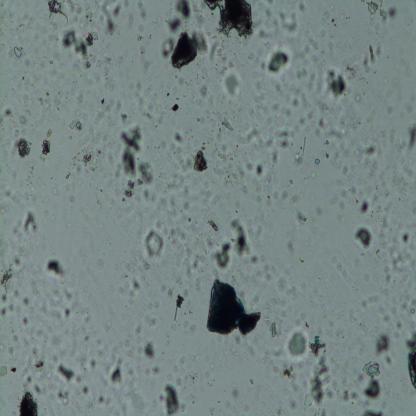Background material: (164, 0, 256, 81), (113, 121, 157, 199), (303, 333, 329, 411), (210, 150, 261, 186), (57, 29, 99, 70), (300, 72, 330, 112), (245, 123, 277, 160), (261, 294, 286, 340), (262, 167, 292, 205), (94, 0, 124, 37), (72, 141, 107, 170), (258, 48, 294, 76), (230, 212, 249, 260), (364, 0, 400, 25), (402, 330, 416, 394), (105, 354, 131, 388), (157, 381, 182, 416), (324, 69, 351, 101), (140, 225, 164, 261), (20, 201, 42, 238), (64, 0, 94, 27), (258, 3, 278, 43), (168, 140, 193, 170), (384, 248, 406, 282), (359, 41, 382, 73), (258, 92, 287, 117), (29, 349, 51, 380), (17, 388, 41, 416), (288, 330, 309, 361), (43, 0, 67, 27), (162, 223, 187, 248), (214, 116, 236, 142), (95, 101, 122, 122), (0, 262, 17, 295), (278, 7, 298, 35), (292, 134, 309, 164), (214, 242, 232, 270), (129, 251, 149, 276), (195, 141, 211, 171), (158, 193, 178, 217), (180, 368, 201, 390), (402, 119, 416, 152), (328, 145, 348, 168), (224, 72, 240, 100), (374, 331, 392, 355), (10, 140, 34, 158), (279, 120, 294, 148), (136, 24, 148, 59), (47, 296, 62, 323), (256, 264, 278, 282), (173, 291, 185, 324), (345, 64, 364, 84), (364, 378, 382, 399), (296, 112, 315, 131), (362, 358, 380, 378), (318, 10, 338, 28), (37, 138, 52, 162), (68, 114, 86, 134), (196, 234, 216, 252), (0, 104, 15, 128), (47, 256, 64, 277), (192, 83, 211, 101), (169, 170, 185, 191), (358, 226, 373, 248), (0, 293, 15, 314), (10, 43, 25, 63), (20, 366, 34, 387), (378, 309, 396, 325), (376, 218, 389, 240), (143, 342, 158, 361), (313, 116, 328, 135), (296, 62, 310, 82), (56, 365, 76, 379), (95, 333, 106, 358), (204, 216, 220, 233), (0, 185, 16, 202), (57, 389, 72, 407), (141, 310, 156, 327), (156, 102, 166, 127), (279, 362, 293, 379), (361, 296, 380, 308), (60, 165, 73, 182), (135, 0, 146, 20), (324, 128, 346, 138), (337, 261, 349, 279), (138, 96, 154, 109), (10, 252, 22, 269), (26, 162, 34, 187), (131, 275, 141, 295), (294, 209, 308, 223), (249, 251, 262, 266), (32, 94, 48, 106), (285, 239, 297, 255), (184, 263, 194, 281), (408, 296, 416, 316), (32, 381, 42, 397), (148, 364, 161, 376), (62, 304, 73, 318), (361, 147, 378, 156), (182, 197, 192, 212), (74, 91, 84, 106), (256, 162, 265, 178), (359, 203, 369, 217), (102, 54, 112, 68), (64, 289, 74, 303), (342, 385, 350, 402), (287, 398, 298, 410), (153, 218, 164, 230), (121, 284, 132, 296), (351, 389, 361, 402), (315, 405, 326, 416), (400, 232, 410, 244), (141, 108, 151, 120), (18, 113, 28, 125), (174, 130, 183, 143), (394, 317, 402, 331), (166, 283, 174, 297), (262, 351, 270, 365), (301, 321, 311, 332), (11, 127, 21, 138), (88, 358, 97, 370), (240, 184, 249, 196), (98, 394, 107, 406), (0, 363, 7, 378), (297, 0, 305, 13), (363, 411, 383, 416), (157, 139, 167, 149), (178, 403, 188, 413), (286, 107, 296, 117), (174, 376, 183, 387), (384, 355, 393, 366), (274, 405, 283, 416), (207, 405, 216, 416), (74, 374, 83, 385), (232, 386, 239, 400), (183, 182, 190, 196), (82, 385, 90, 397), (6, 344, 14, 356), (54, 96, 60, 112), (171, 101, 179, 112), (22, 294, 30, 305), (194, 255, 199, 272), (400, 180, 407, 192), (42, 88, 50, 98), (46, 126, 52, 139), (247, 347, 254, 358), (106, 316, 111, 331), (375, 248, 381, 260), (356, 373, 364, 382), (20, 316, 29, 324), (231, 347, 240, 355), (293, 99, 300, 109), (14, 290, 21, 300), (66, 219, 72, 230), (196, 113, 202, 124), (372, 192, 378, 203), (316, 208, 324, 216), (312, 157, 320, 165), (338, 201, 345, 210), (344, 164, 349, 176), (364, 397, 369, 409), (99, 96, 105, 106), (11, 366, 18, 374), (121, 111, 128, 119), (298, 255, 306, 262), (351, 186, 357, 194), (47, 58, 53, 66), (310, 171, 316, 179), (82, 336, 90, 342), (165, 89, 170, 98), (13, 334, 18, 342), (242, 350, 247, 358), (342, 190, 348, 196), (384, 191, 390, 197), (68, 135, 74, 141), (402, 304, 408, 310), (355, 96, 361, 102), (184, 288, 188, 297), (211, 362, 215, 370), (216, 398, 221, 404), (249, 379, 254, 385), (188, 217, 193, 223), (325, 152, 329, 159), (208, 382, 213, 387), (325, 140, 329, 145), (371, 210, 374, 216), (232, 381, 235, 387), (397, 197, 401, 201), (192, 401, 196, 405), (196, 219, 198, 226), (355, 201, 358, 204)
Fragment: (204, 275, 264, 339)
